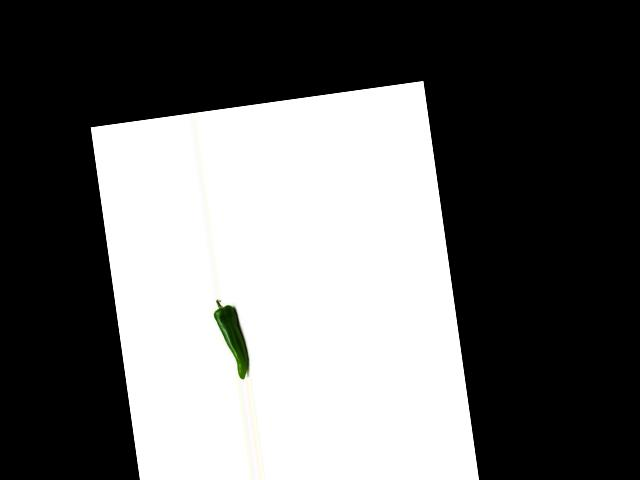bell_pepper: (209, 293, 252, 382)
